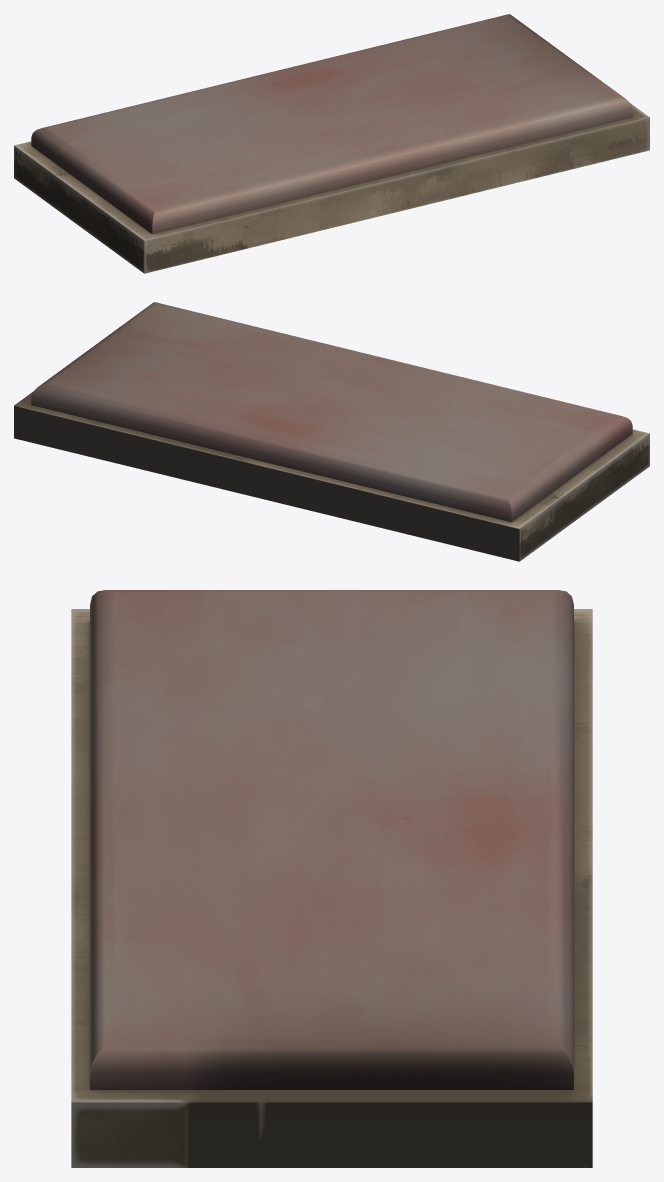
Rendered from Cela_Cama.fbx.
3 views of the same model, one above another, from view 1: azimuth 30°, elevation 25°; view 2: azimuth 150°, elevation 25°; view 3: azimuth 270°, elevation 25° (orthographic). The views are drawn at different scales.
Parts seen in each view (by area): view 1: Plane.059; view 2: Plane.059; view 3: Plane.059.
Part boxes in pixels (x1,y1,x2,y2): Plane.059: [14, 14, 649, 273]; Plane.059: [14, 302, 649, 561]; Plane.059: [71, 590, 592, 1167].
Size of the model in its own units: 220 by 21.95 by 98.47.
